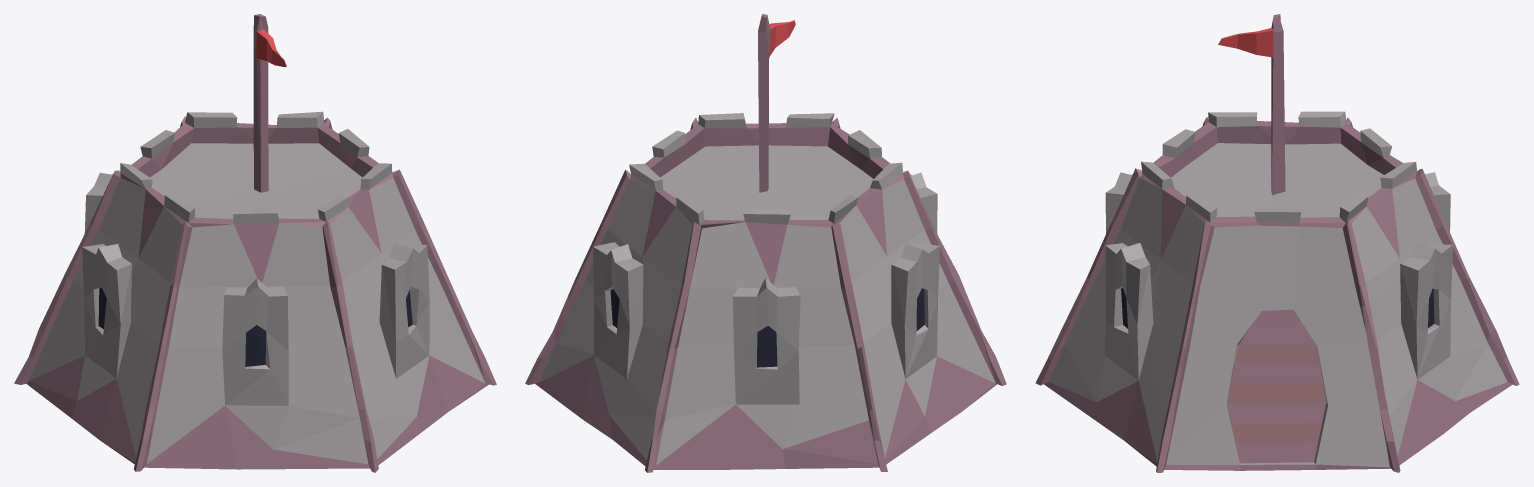
Rendered from FirstCastle.fbx.
3 renders of one model, left to right at view 1: azimuth 30°, elevation 25°; view 2: azimuth 150°, elevation 25°; view 3: azimuth 270°, elevation 25°, orthographic.
Visible parts, largest first — view 1: FirstCastle; view 2: FirstCastle; view 3: FirstCastle.
Boxes of the visible parts, bbox=[...] form: FirstCastle: bbox=[14, 14, 496, 472]; FirstCastle: bbox=[525, 14, 1006, 472]; FirstCastle: bbox=[1035, 14, 1519, 472].
Bounding box in the file's own units: 1443 × 1399 × 1657.
